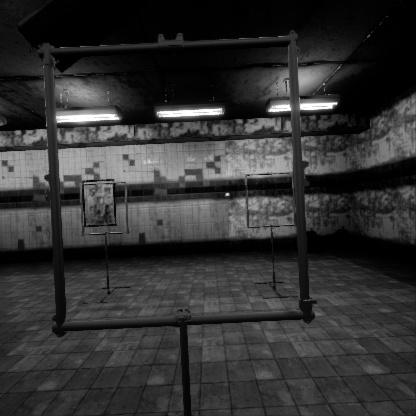gate: (45, 81, 334, 380), (244, 187, 300, 244), (79, 179, 133, 235)
